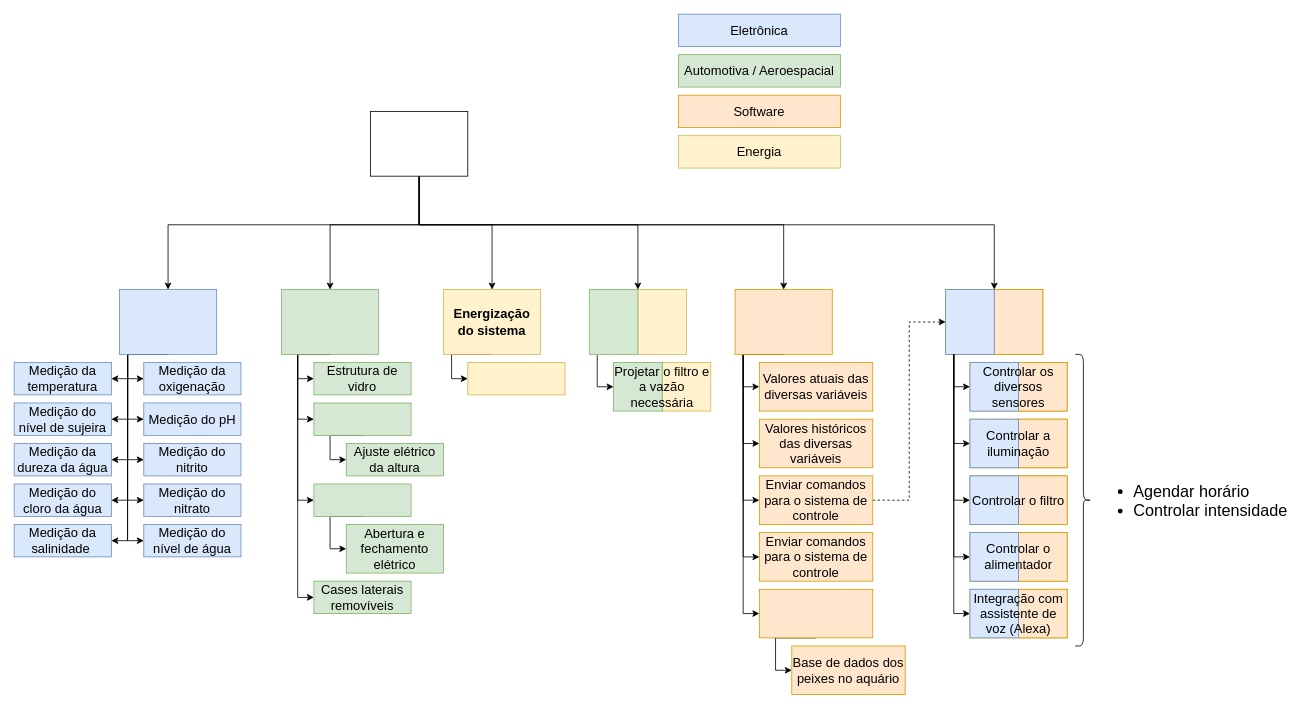
The diagram is 1316 pixels wide and 709 high, and some of its shapes have lost their labels. Here are the shapes that lost their labels. From the top down, the centre of each, then its label:
At (419,143): "Aquário inteligente".
At (168,321): "Sistema de medição".
At (330,321): "Estrutura".
At (613,321): "Filtragem da água".
At (783,321): "Aplicativo".
At (969,321): "Sistema de controle".
At (516,378): "Fonte do sistema".
At (362,418): "Base de suporte".
At (362,499): "Tampa retrátil".
At (816,613): "Sugerir quais peixes colocar no aquário".
